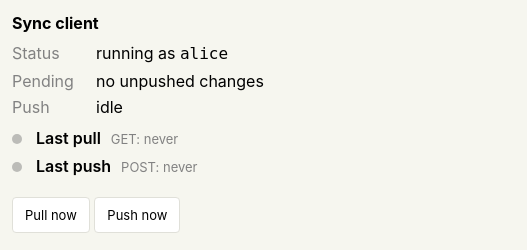
Scenario: <CloudSyncDebugPanel> › Pull now calls triggerPull and re-reads the snapshot
Expected: the text "GET: never" is shown, [111,131,178,147]
Click the button with test id "cloud-sync-pull-now" at coordinates (51, 215), box [12,197,90,233]
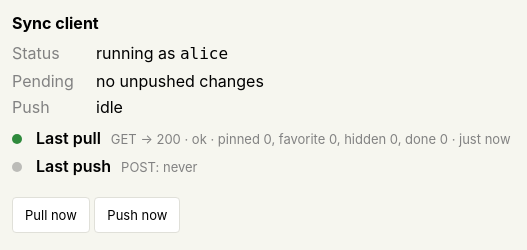
Expected: the text "GET → 200" is shown, [111,131,511,147]
